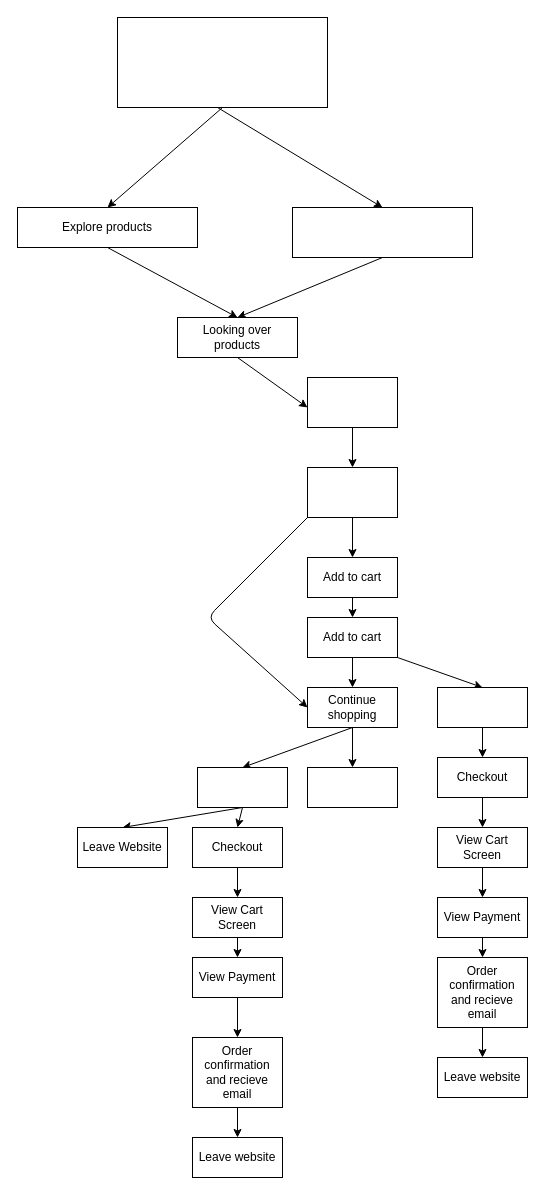
Some shapes in this 545 by 1195 pixel diagram are drawn without their labels. Each missing label, with the centre of its shape:
"Click here to enter website home page" goes at point 222,62.
"Don't continue shopping" goes at point 482,707.
"Don't search for a new product" goes at point 242,787.
"products webpage will open" goes at point 352,492.
"Search for a new product" goes at point 352,787.
"Search for product" goes at point 382,232.
"View a specific product" goes at point 352,402.
